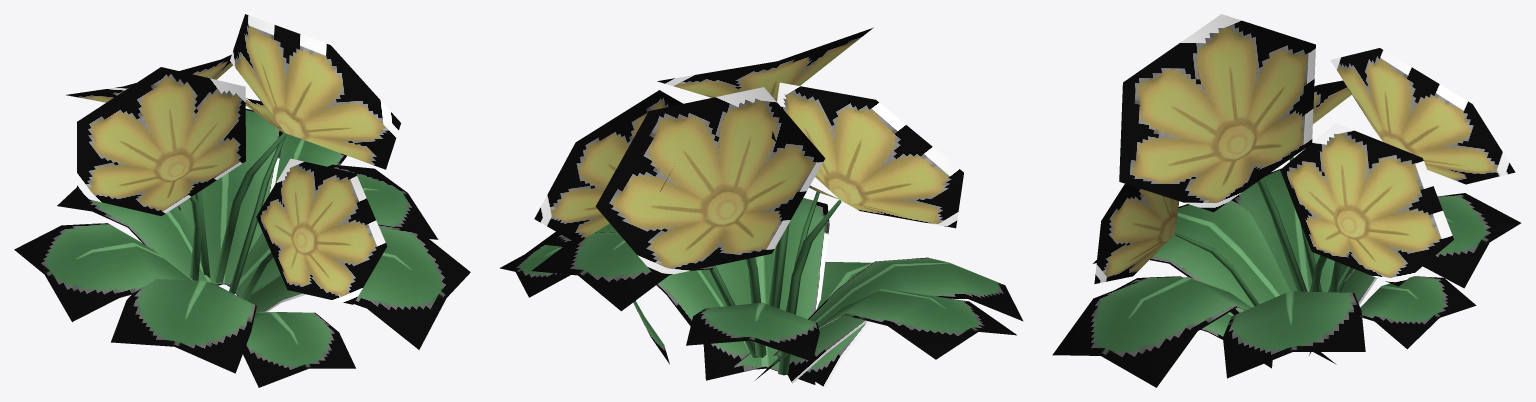
The model's file is q_Plant_Flowers.glb.
The picture shows the model from 3 angles, left to right: view 1: azimuth 30°, elevation 25°; view 2: azimuth 150°, elevation 25°; view 3: azimuth 270°, elevation 25°; orthographic projection. The views are drawn at different scales.
Visible parts, largest first — view 1: Plant_Flowers_Plane.034; view 2: Plant_Flowers_Plane.034; view 3: Plant_Flowers_Plane.034.
Boxes of the visible parts, <box> form: Plant_Flowers_Plane.034: <box>14,14,470,387</box>; Plant_Flowers_Plane.034: <box>500,27,1023,387</box>; Plant_Flowers_Plane.034: <box>1052,14,1520,387</box>.
Bounding box in the file's own units: 1.48 × 1.18 × 1.53.
Materials: 1 (1 with a texture image).
